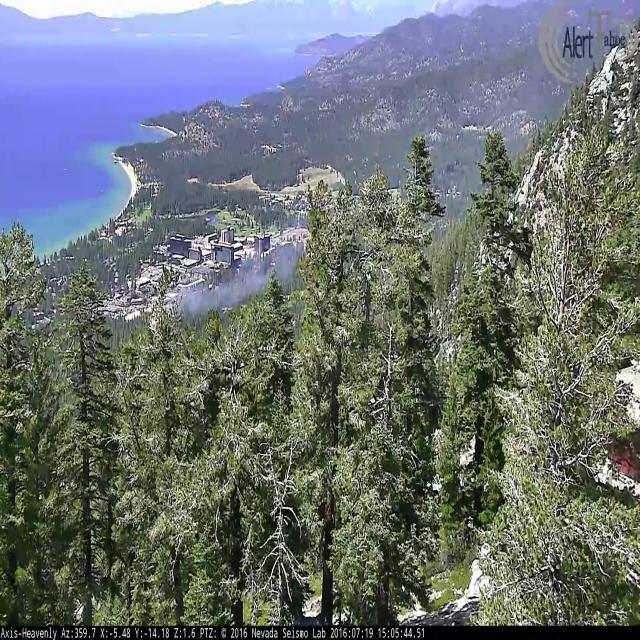smoke: (160, 222, 314, 343)
